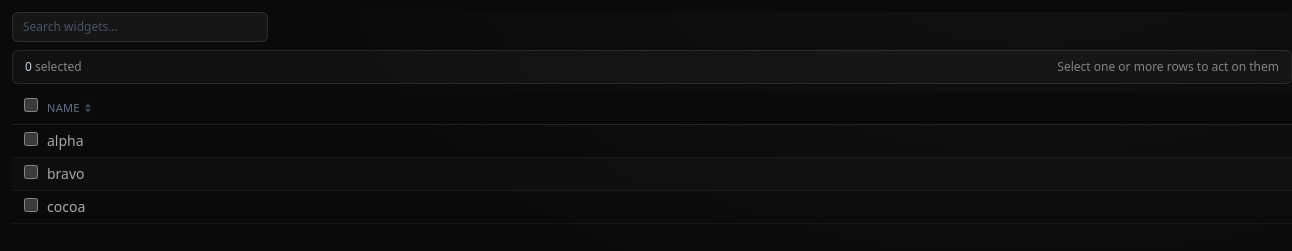
Scenario: DataTable, row actions in one bar › ⭐ A MIXED SELECTION SAYS HOW MANY THE VERB WILL ACTUALLY TOUCH, BEFORE THE CLICK
This screenshot has width=1292, height=251.
Click the checkbox named "Select alpha".
click(31, 139)  # box [24,132,38,146]
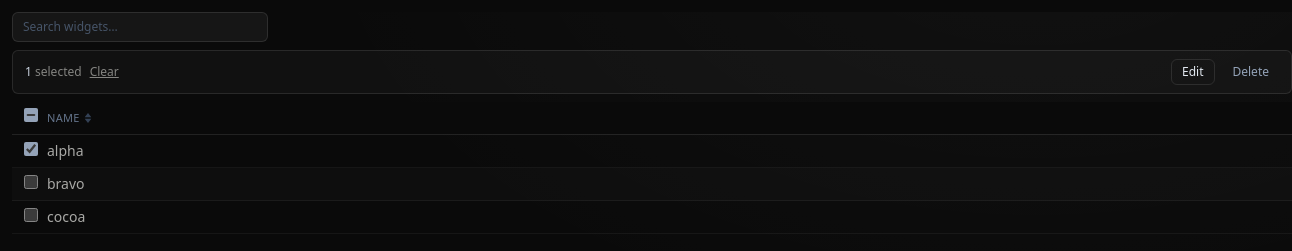
Click the checkbox named "Select bravo".
click(31, 182)  # box [24,175,38,189]
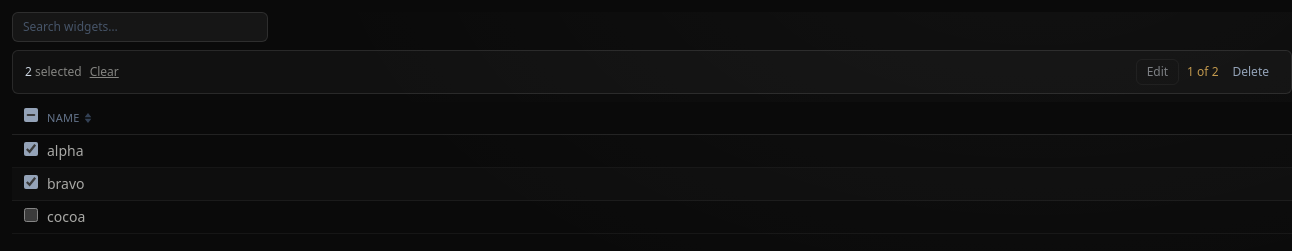
Check: the text "1 of 2" is shown, box [1187,64,1218,80]
